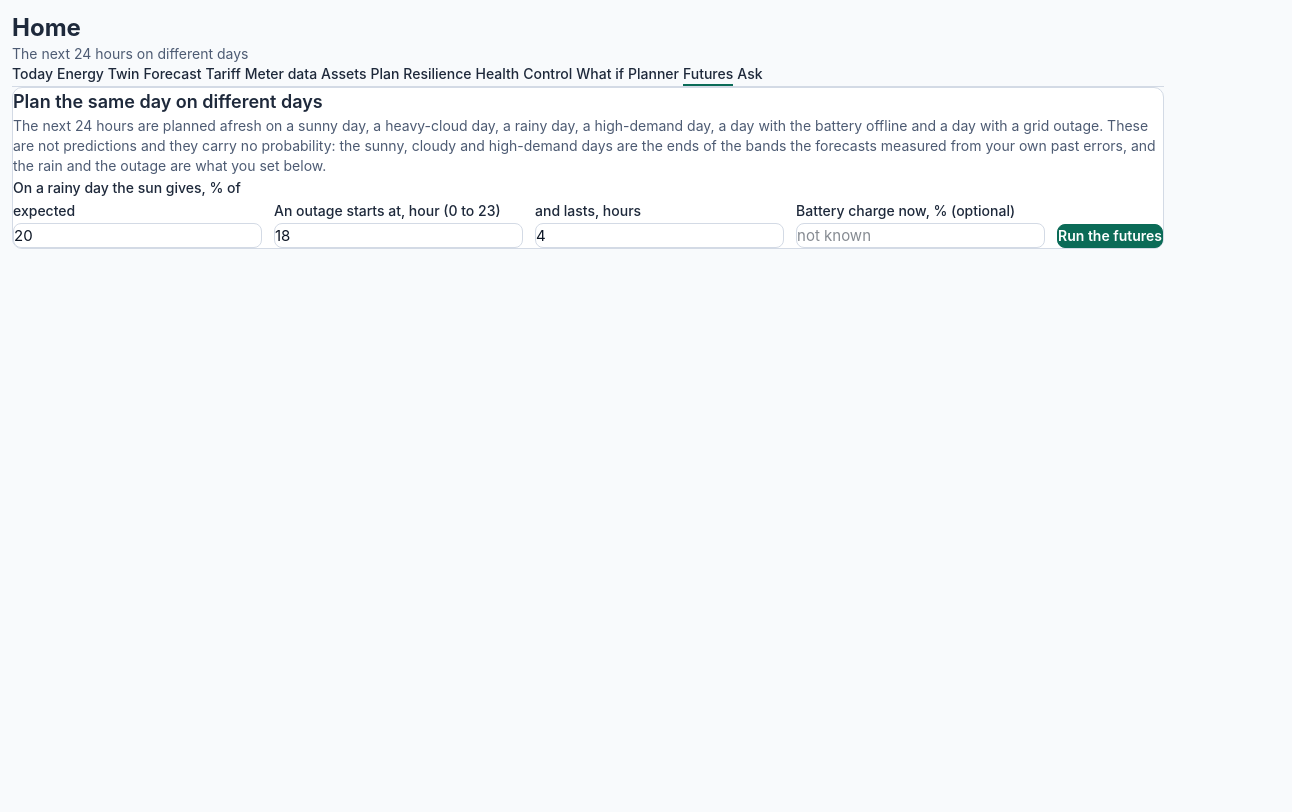
Test case: FuturesView › says a day is the same as the expected day when its band has no width, instead of presenting it as a finding
Click the button "Run the futures" at [1110, 236], box [1057,224,1163,248]
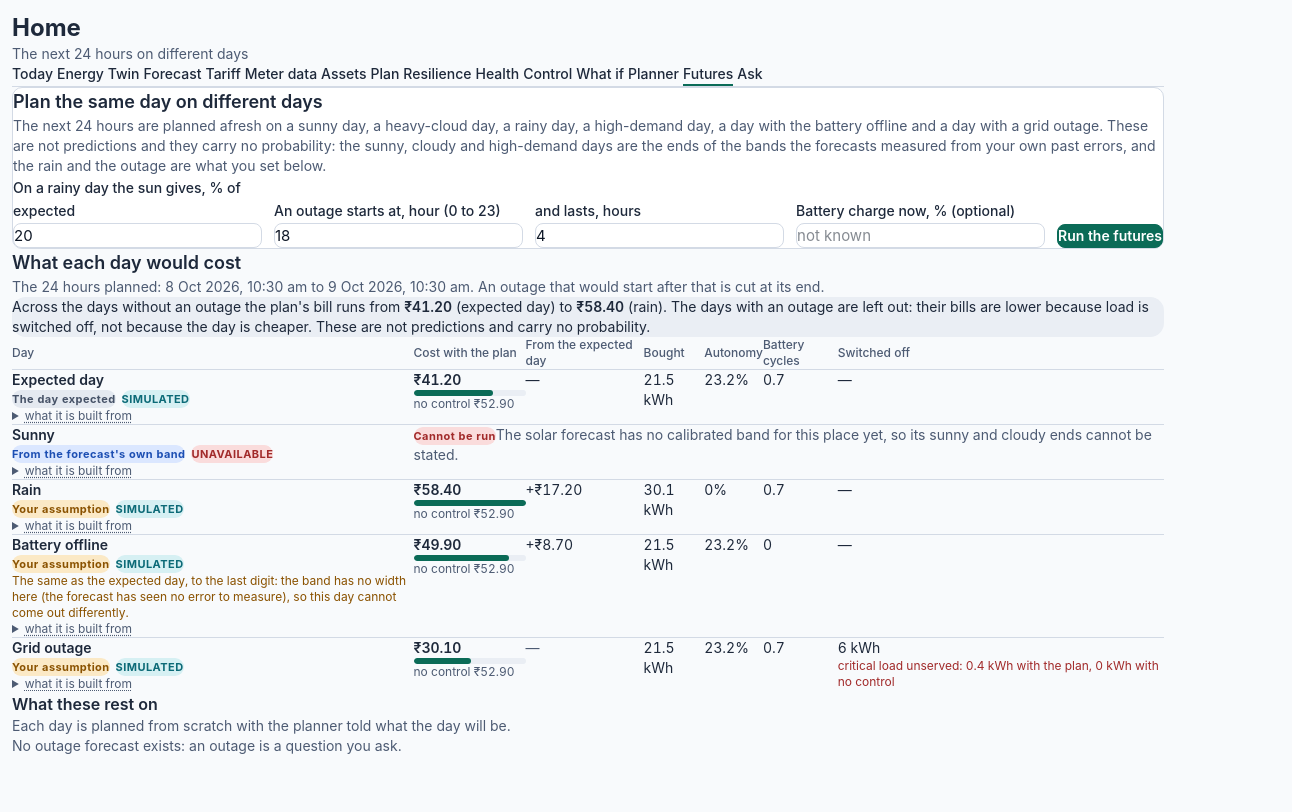
Now the text "The same as the expected day, to the last digit: the band has no width here" is shown, box [12,573,406,620]
